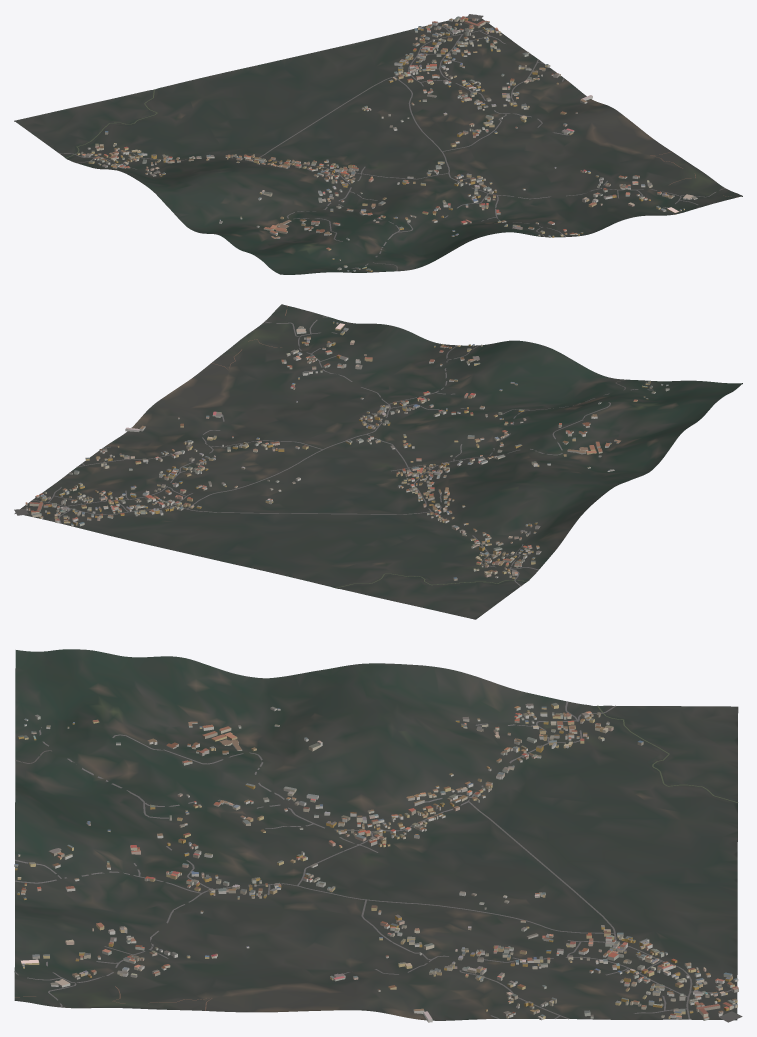
3 renders of one model, top to bottom at view 1: azimuth 30°, elevation 25°; view 2: azimuth 150°, elevation 25°; view 3: azimuth 270°, elevation 25°, orthographic. The views are drawn at different scales.
Visible parts, largest first — view 1: ground, buildings, roads; view 2: ground, buildings, roads; view 3: ground, buildings, roads.
Boxes of the visible parts, bbox=[...] form: ground: bbox=[14, 14, 742, 274]; buildings: bbox=[77, 16, 697, 271]; roads: bbox=[59, 14, 737, 271]; ground: bbox=[14, 304, 742, 619]; buildings: bbox=[25, 321, 669, 580]; roads: bbox=[14, 305, 653, 586]; ground: bbox=[14, 649, 738, 1020]; buildings: bbox=[14, 703, 738, 1022]; roads: bbox=[14, 701, 742, 1022].
Bounding box in the file's own units: 1414 × 145 × 1414.
